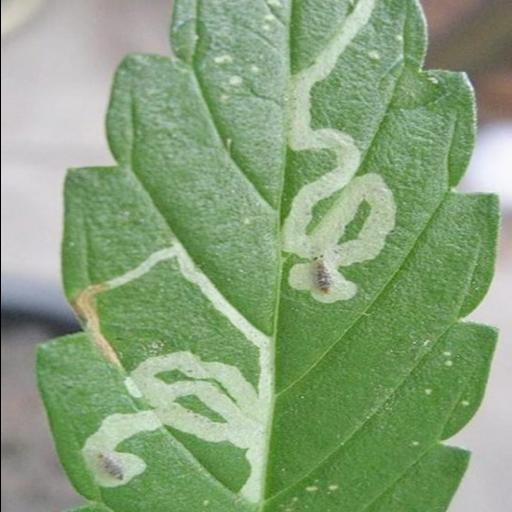Leaf Miner: (38, 0, 506, 512)
